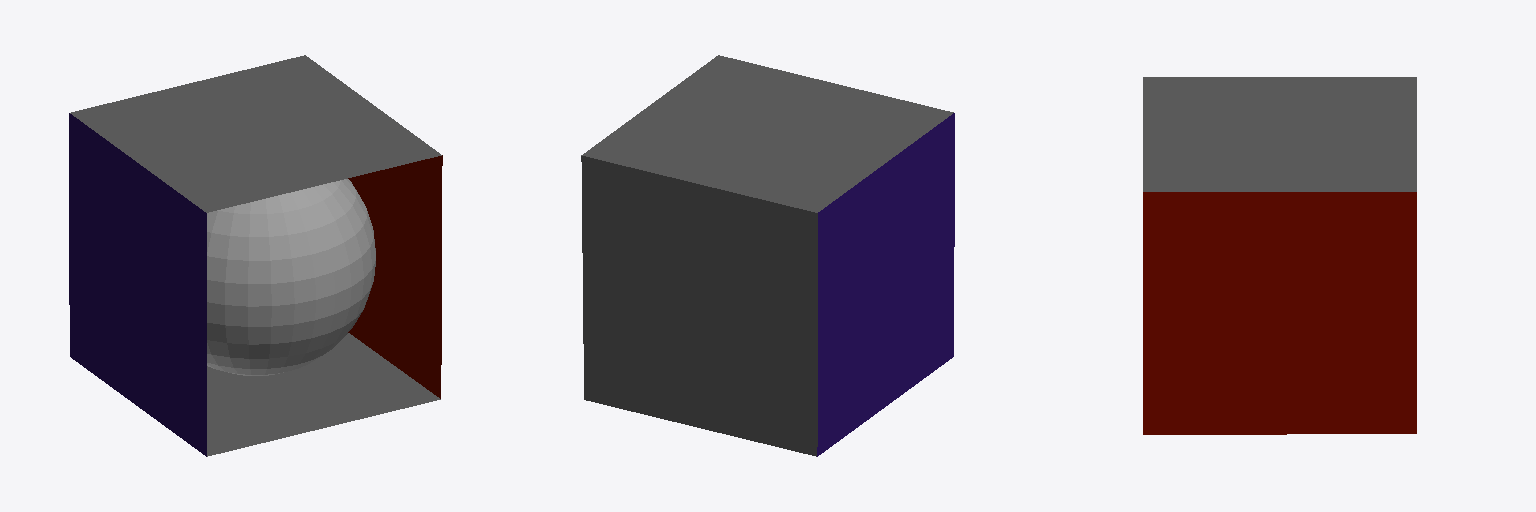
The model's file is cornellball-glass.obj.
3 views of the same model, side by side, from view 1: azimuth 30°, elevation 25°; view 2: azimuth 150°, elevation 25°; view 3: azimuth 270°, elevation 25° (orthographic).
Bounding box in the file's own units: 0.7808 × 0.7709 × 0.7855.